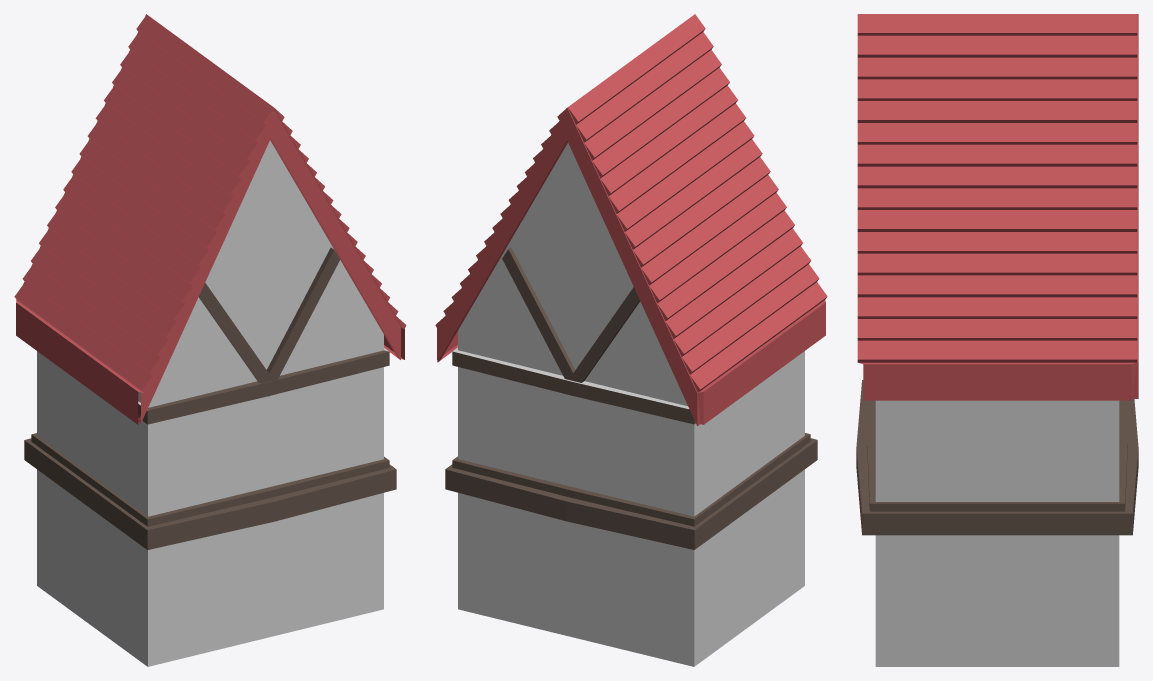
Rendered from stage1_house_s.fbx.
3 renders of one model, left to right at view 1: azimuth 30°, elevation 25°; view 2: azimuth 150°, elevation 25°; view 3: azimuth 270°, elevation 25°, orthographic. The views are drawn at different scales.
Visible parts, largest first — view 1: house; view 2: house; view 3: house.
Boxes of the visible parts, <box> form: house: <box>14,14,406,666</box>; house: <box>435,14,827,666</box>; house: <box>856,14,1138,666</box>.
Bounding box in the file's own units: 8274 × 15914 × 6900.
